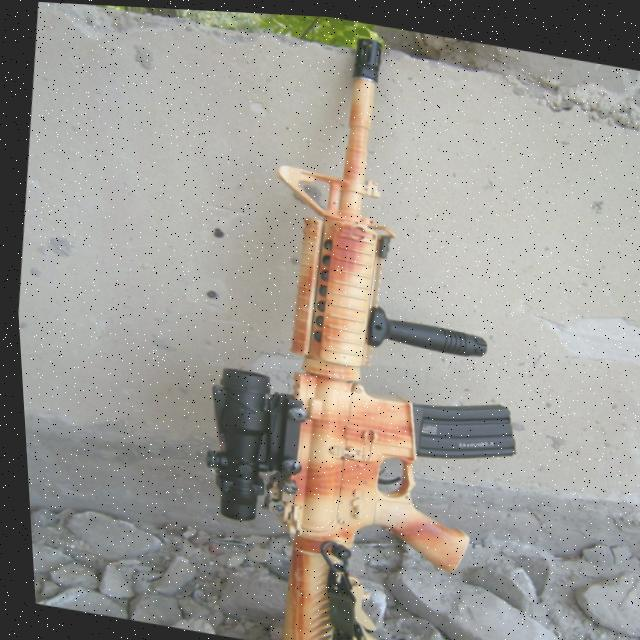firearm: (150, 6, 573, 640)
